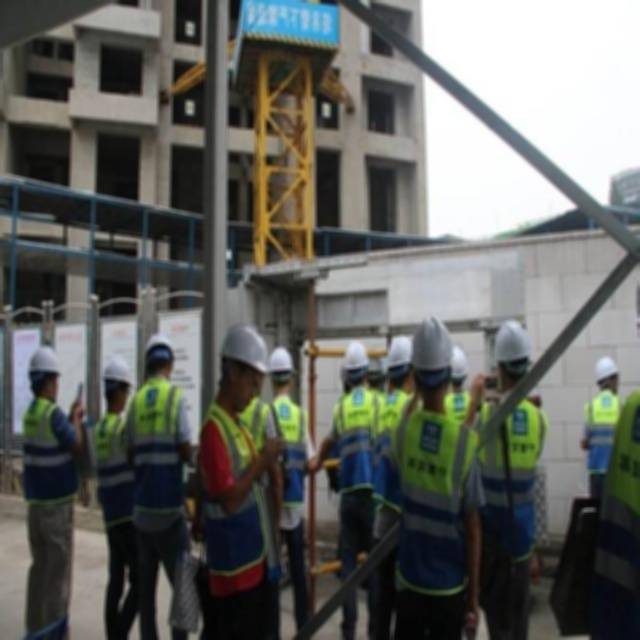Con_Casco: (218, 321, 270, 403), (411, 314, 453, 405)
Con_Chaleco: (389, 415, 481, 592), (195, 405, 271, 582), (129, 382, 183, 522)
